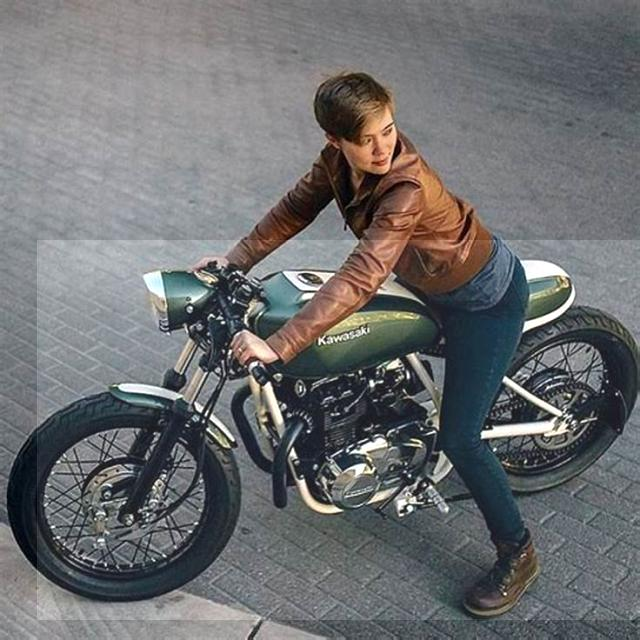Bike: (37, 240, 640, 620)
